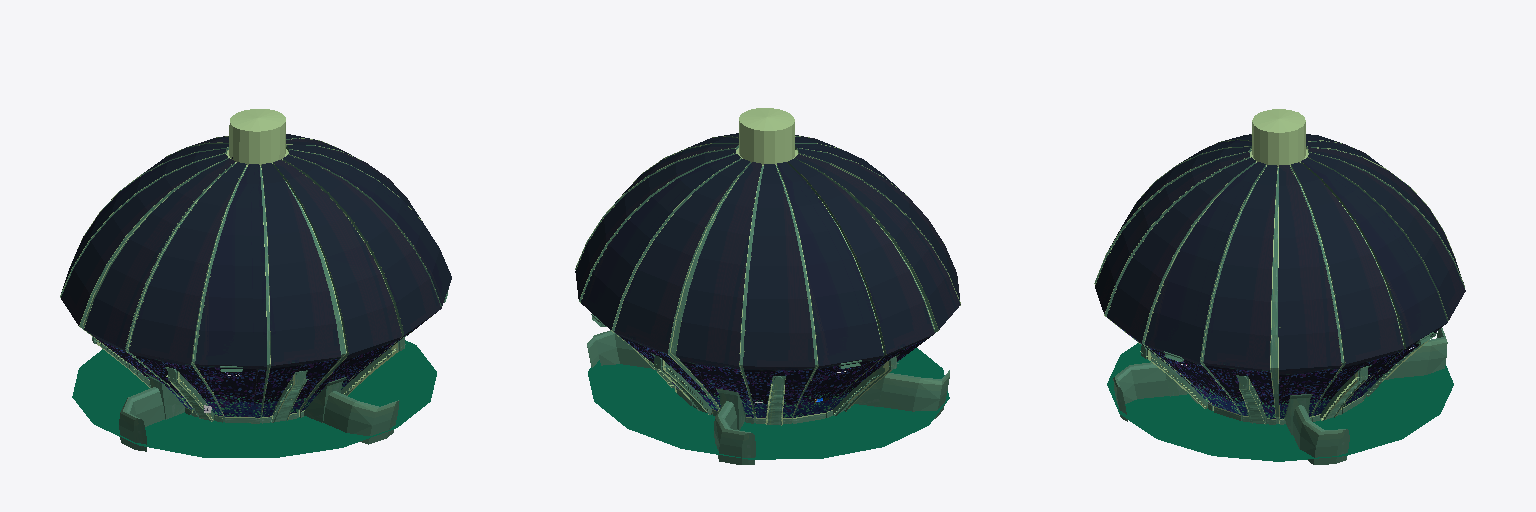
3 renders of one model, left to right at view 1: azimuth 30°, elevation 25°; view 2: azimuth 150°, elevation 25°; view 3: azimuth 270°, elevation 25°, orthographic.
Parts seen in each view (by area): view 1: DrawCall_41, DrawCall_11, DrawCall_49, DrawCall_2; view 2: DrawCall_41, DrawCall_11, DrawCall_49, DrawCall_2; view 3: DrawCall_41, DrawCall_11, DrawCall_49, DrawCall_2.
Boxes of the visible parts, <box> form: DrawCall_41: <box>61,134,451,366</box>; DrawCall_11: <box>60,109,448,451</box>; DrawCall_49: <box>72,340,436,457</box>; DrawCall_2: <box>85,307,441,417</box>; DrawCall_41: <box>575,133,960,366</box>; DrawCall_11: <box>575,108,960,464</box>; DrawCall_49: <box>588,348,949,459</box>; DrawCall_2: <box>615,332,933,417</box>; DrawCall_41: <box>1095,134,1465,369</box>; DrawCall_11: <box>1094,109,1464,464</box>; DrawCall_49: <box>1107,343,1453,461</box>; DrawCall_2: <box>1108,318,1446,418</box>.
Size of the model in its own units: 156 by 119 by 145.
14 materials, 14 textured.